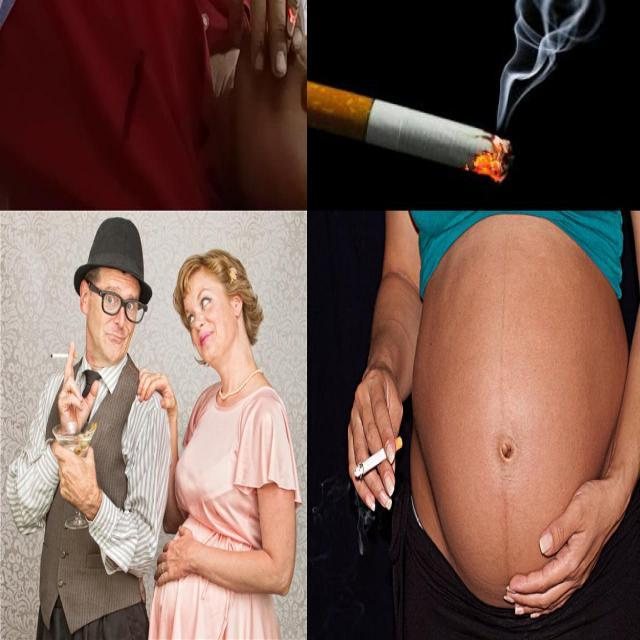cigarette: (306, 76, 514, 184), (354, 436, 404, 480), (280, 0, 301, 60), (49, 346, 76, 359)
